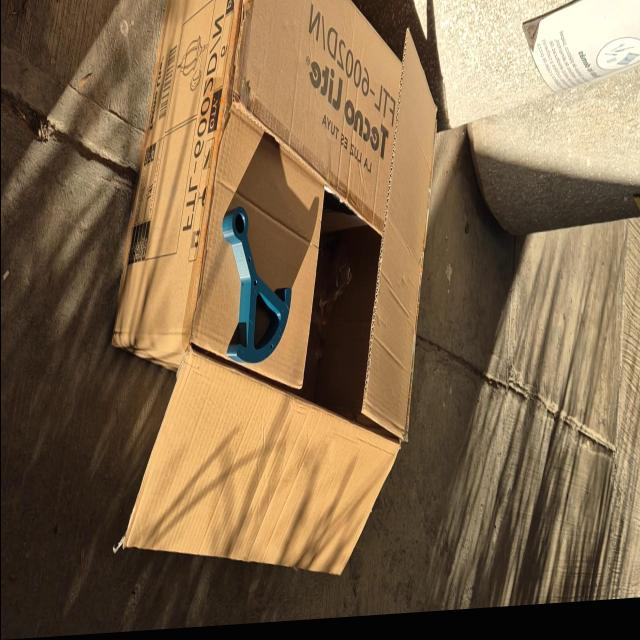haptic: (221, 202, 291, 367)
